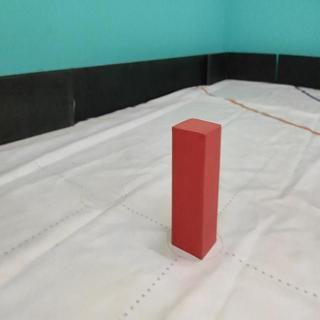redbox: (173, 117, 221, 261)
